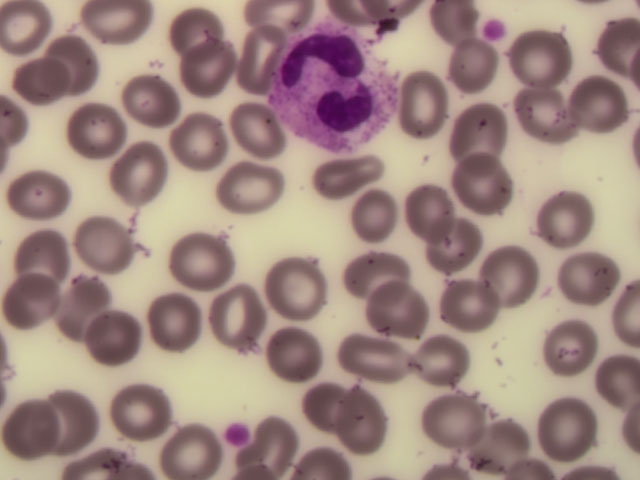Platelets: (221, 422, 251, 444), (480, 18, 507, 41)
RBC: (14, 57, 67, 114), (39, 30, 92, 87), (69, 107, 122, 164), (175, 45, 228, 102), (123, 72, 176, 129), (114, 146, 167, 203), (168, 115, 221, 172), (225, 160, 278, 217), (232, 104, 285, 161), (226, 27, 279, 84), (399, 79, 452, 136), (320, 143, 373, 200), (347, 188, 400, 245), (402, 181, 455, 238), (462, 158, 515, 215), (453, 107, 506, 164), (447, 48, 500, 105), (520, 22, 573, 79), (519, 82, 572, 139), (567, 75, 620, 132), (545, 189, 598, 246), (478, 250, 531, 307), (437, 276, 490, 333), (428, 218, 481, 275), (372, 282, 425, 339), (353, 247, 406, 304), (266, 257, 319, 314), (183, 237, 236, 294), (213, 287, 266, 344), (144, 295, 197, 352), (87, 315, 140, 372), (58, 285, 111, 342), (11, 278, 64, 335), (15, 228, 68, 285), (80, 219, 133, 276), (15, 167, 68, 224), (119, 376, 172, 433), (56, 389, 109, 446), (11, 408, 64, 465), (164, 423, 217, 480), (247, 423, 300, 480), (333, 390, 386, 447), (300, 377, 353, 434), (263, 326, 316, 383), (341, 329, 394, 386), (409, 332, 462, 389), (428, 393, 481, 450), (470, 416, 523, 473), (543, 401, 596, 458), (544, 319, 597, 376), (560, 250, 613, 307), (164, 1, 217, 57), (1, 4, 53, 61)
WBC: (271, 28, 395, 155)
